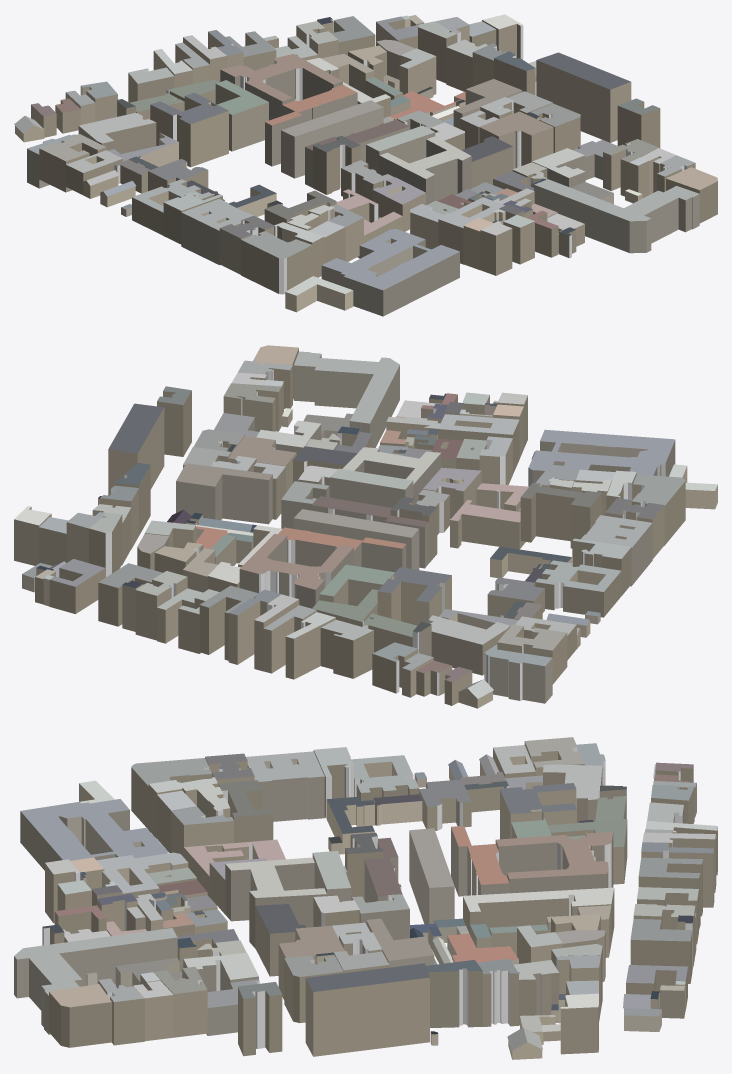
The picture shows the model from 3 angles, top to bottom: view 1: azimuth 30°, elevation 25°; view 2: azimuth 150°, elevation 25°; view 3: azimuth 270°, elevation 25°; orthographic projection. The views are drawn at different scales.
Parts seen in each view (by area): view 1: tuile; view 2: tuile; view 3: tuile.
Part boxes in pixels (x1,y1,x2,y2): tuile: (14,14,717,316); tuile: (14,345,717,708); tuile: (14,737,717,1059).
Size of the model in its own units: 270 by 35.45 by 278.
